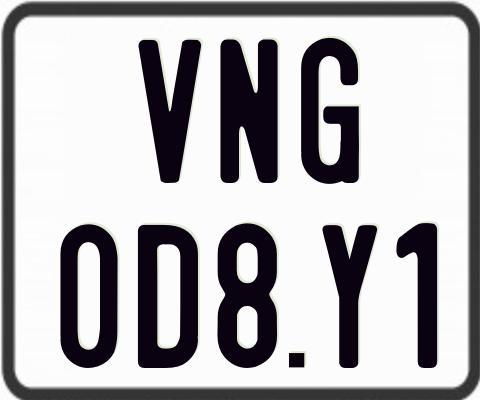0: (59, 221, 119, 368)
1: (394, 220, 436, 366)
8: (215, 222, 277, 369)
D: (138, 225, 202, 374)
G: (298, 37, 360, 187)
N: (217, 39, 277, 183)
V: (137, 39, 200, 187)
Y: (323, 222, 382, 365)
